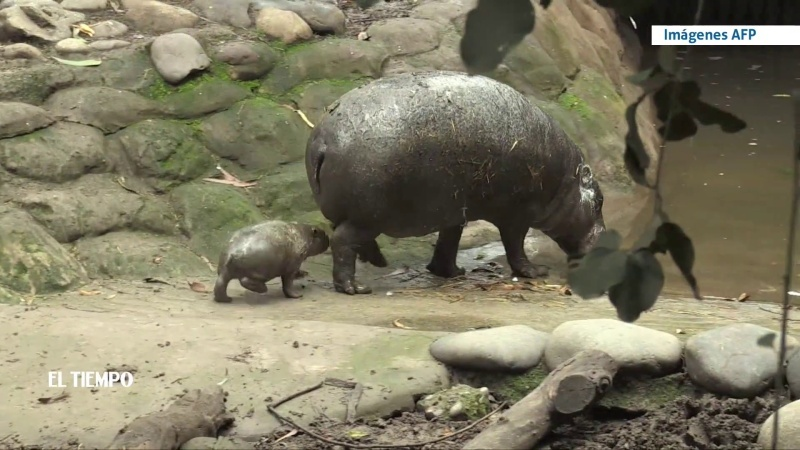hipopotamo: (295, 72, 633, 315), (195, 203, 346, 325)
